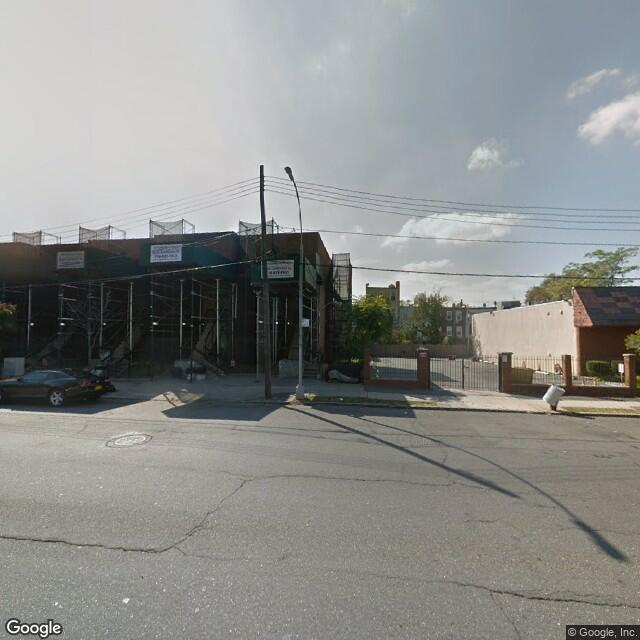litter: (179, 386, 192, 392), (119, 597, 134, 601), (337, 396, 345, 401), (397, 410, 406, 413)
